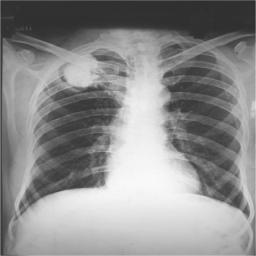cancer: (64, 52, 100, 87)
